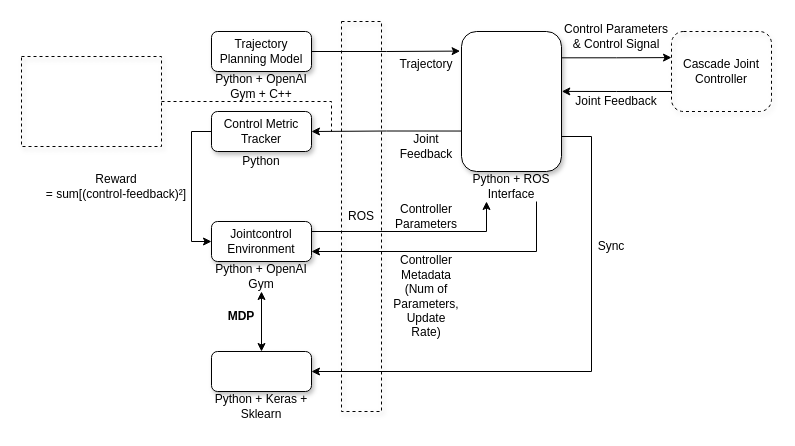
This 795x446 diagram has some shape labels left out. Here are the shapes that lost their labels. From the top down, the centre of each, then its label:
the point at 92,103: Jointmetric Message: int Frequency float controlSignal float feedbackSignal
the point at 512,102: Controller Interface
the point at 262,372: Inference Agent
